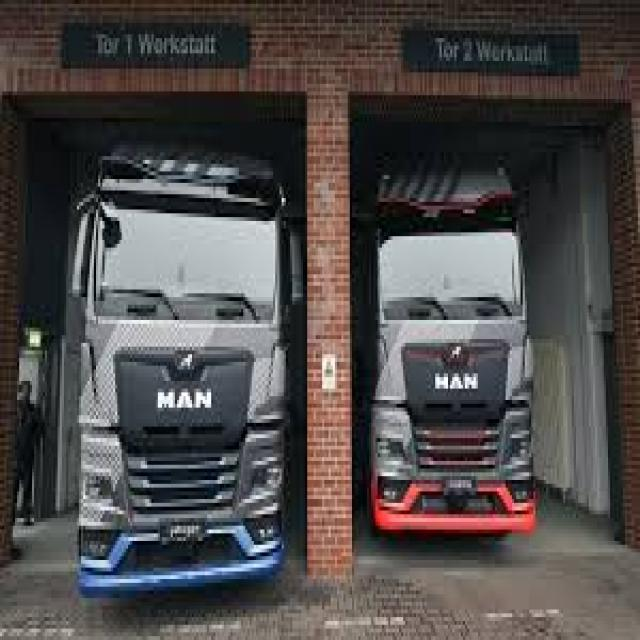Heavy Duty Truck: (68, 137, 303, 610), (354, 152, 536, 545)
